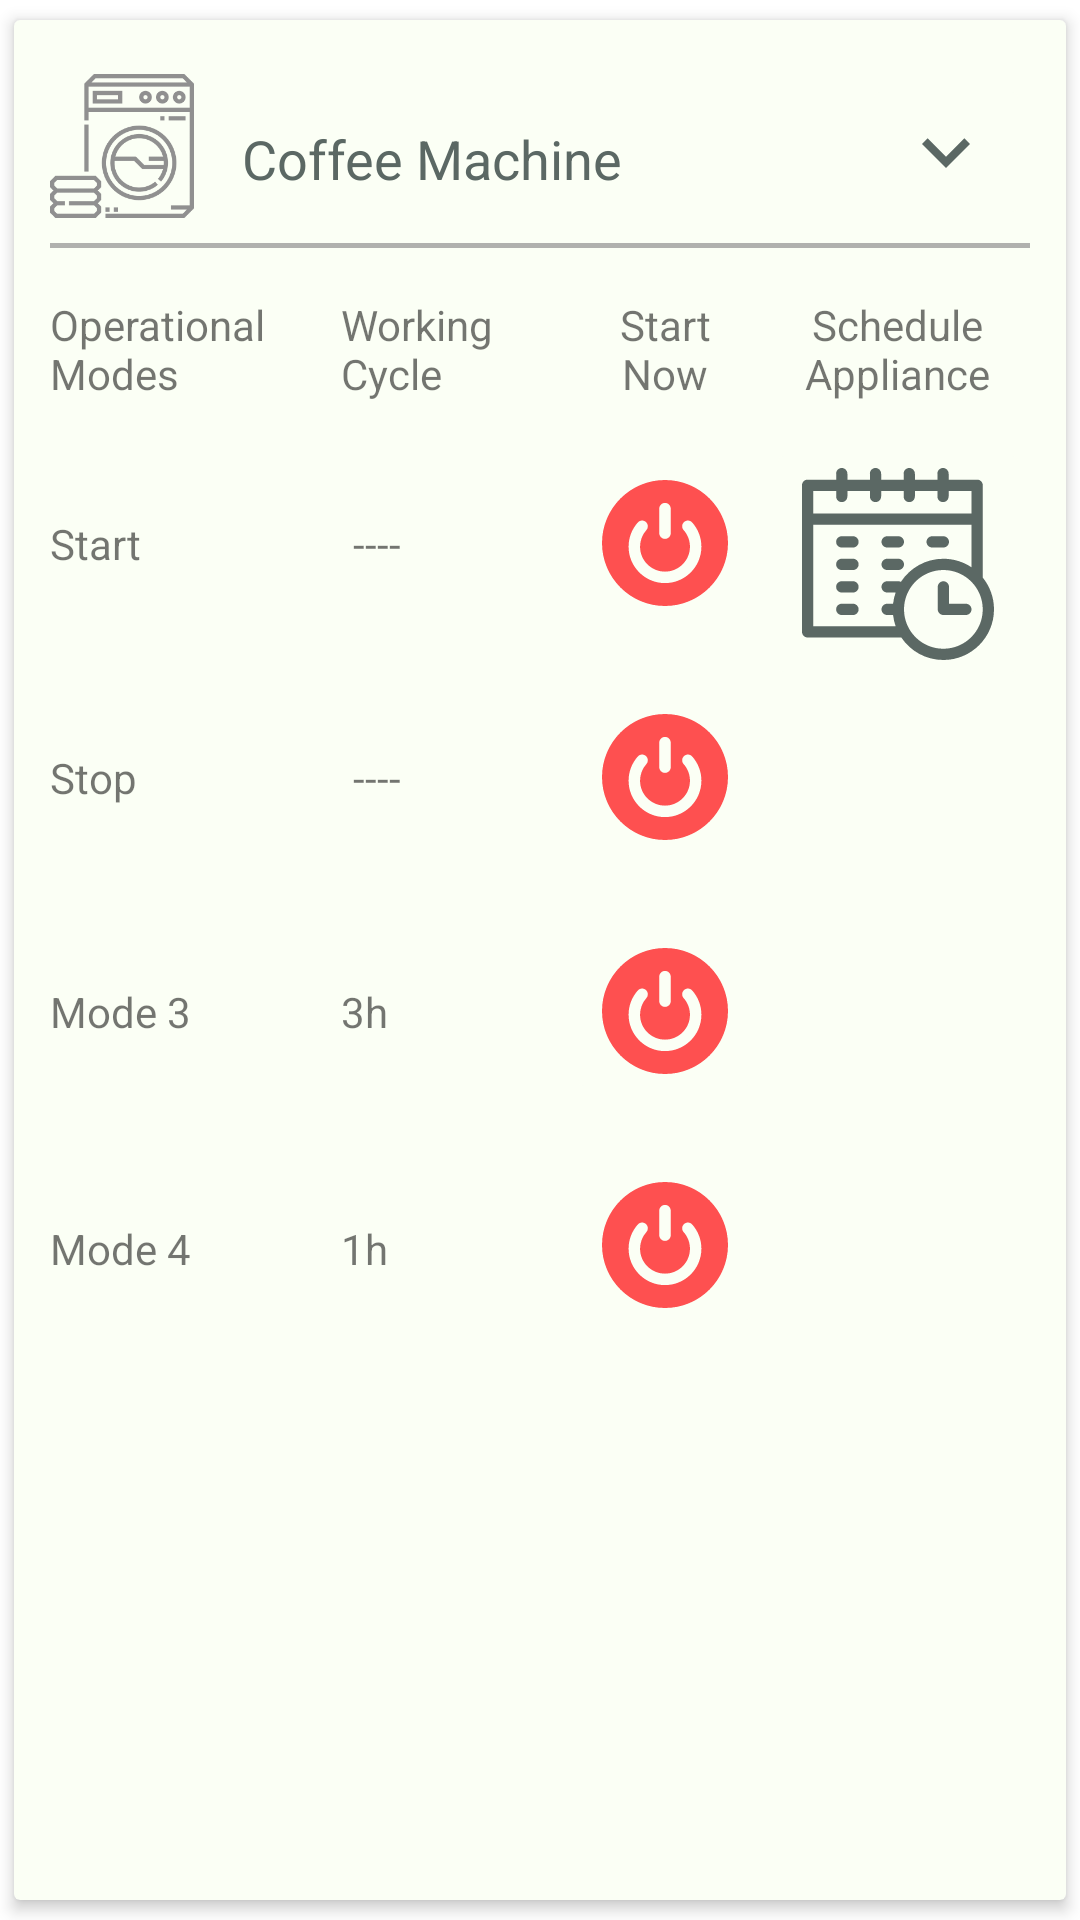

Named icons in this screenshot (1080px x 1920px) and their centers, (x,y):
appliance washing machine: (122,146)
arrow down: (946,153)
on off: (665,543), (665,777), (665,1011), (665,1245)
scheduler: (898,564)
